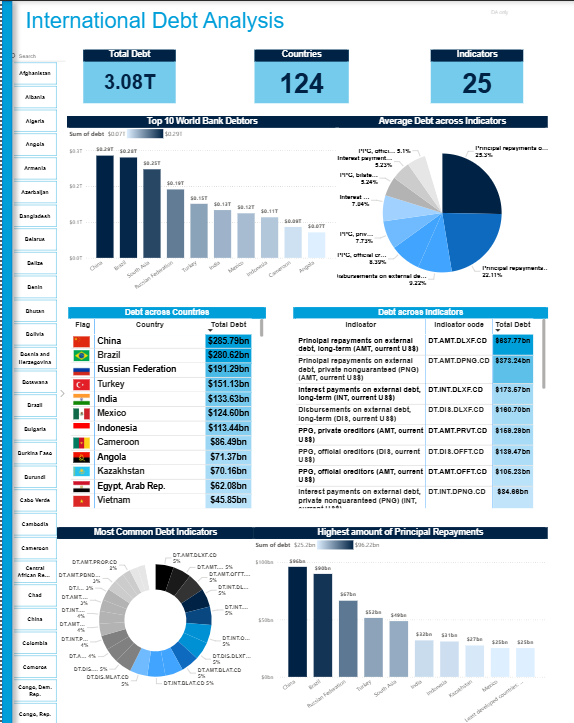

The dashboard page shown, as its layout file describes it:
{"tool":"powerbi","page":{"name":"Main","canvas":[1256,1590],"ordinal":0},"visuals":[{"type":"textbox","box":[47.5,10,1175,67.5],"z":2000},{"type":"slicer","fields":{"Values":["IDS_AllCountries_Data.country_name"]},"box":[0,105.9,144.1,1494.1],"z":3000},{"type":"shape","box":[0,0,22.5,1600],"z":4000},{"type":"card","title":"Total Debt","fields":{"Values":["IDS_AllCountries_Data.Total Debt"]},"box":[178.6,107.1,203.6,117.9],"z":5000},{"type":"tableEx","title":"Debt across Countries ","fields":{"Values":["IDS_CountryFlag_LookUp.Country Flag","IDS_AllCountries_Data.country_name","Sum(IDS_AllCountries_Data.debt)"]},"box":[144.8,672.4,434.5,446.6],"z":6000},{"type":"tableEx","title":"Debt across Indicators ","fields":{"Values":["IDS_AllCountries_Data.indicator_name","IDS_AllCountries_Data.indicator_code","Sum(IDS_AllCountries_Data.debt)"]},"box":[639.7,672.4,560.3,446.6],"z":7000},{"type":"card","title":"Countries","fields":{"Values":["Count(IDS_AllCountries_Data.country_name)"]},"box":[553.6,107.1,207.1,117.9],"z":8000},{"type":"card","title":"Indicators","fields":{"Values":["Count(IDS_AllCountries_Data.indicator_name)"]},"box":[942.9,107.1,203.6,117.9],"z":9000},{"type":"columnChart","title":"Top 10 World Bank Debtors","fields":{"Category":["IDS_AllCountries_Data.country_name"],"Y":["Sum(IDS_AllCountries_Data.debt)"]},"box":[142.9,251.4,594.3,405.7],"z":10000},{"type":"columnChart","title":"Highest amount of Principal Repayments","fields":{"Category":["Principal_repayments.country_name"],"Y":["Sum(Principal_repayments.debt)"]},"box":[553.1,1156.2,646.9,443.8],"z":11000},{"type":"pieChart","title":"Average Debt across Indicators","fields":{"Y":["Avg(IDS_AllCountries_Data.debt)"],"Category":["IDS_AllCountries_Data.indicator_name"]},"box":[737.1,251.4,462.9,405.7],"z":12000},{"type":"donutChart","title":"Most Common Debt Indicators","fields":{"Category":["IDS_AllCountries_Data.indicator_code"],"Y":["CountNonNull(IDS_AllCountries_Data.indicator_code)"]},"box":[120.3,1156.2,432.8,389.1],"z":13000},{"type":"simpleImageEBC4593F96F1425FB3D84C5BF02B5075","fields":{"imageURL":["IDS_CountryFlag_LookUp.Country Flag"],"altText":["IDS_AllCountries_Data.country_name"]},"box":[1067.6,0,132.4,97.1],"z":14000}]}

Visuals, with their boxes in screenshot pixels (x1, y1, x2, y2), scaled from the page's 1256x1590 canvas onto the 574x723 screenshot:
textbox: (22, 5, 559, 35)
slicer - IDS_AllCountries_Data.country_name: (0, 48, 66, 722)
shape: (0, 0, 10, 722)
"Total Debt" card: (82, 49, 175, 102)
"Debt across Countries " tableEx: (66, 306, 265, 509)
"Debt across Indicators " tableEx: (292, 306, 548, 509)
"Countries" card: (253, 49, 348, 102)
"Indicators" card: (431, 49, 524, 102)
"Top 10 World Bank Debtors" columnChart: (65, 114, 337, 299)
"Highest amount of Principal Repayments" columnChart: (253, 526, 548, 722)
"Average Debt across Indicators" pieChart: (337, 114, 548, 299)
"Most Common Debt Indicators" donutChart: (55, 526, 253, 703)
simpleImageEBC4593F96F1425FB3D84C5BF02B5075 - IDS_CountryFlag_LookUp.Country Flag x IDS_AllCountries_Data.country_name: (488, 0, 548, 44)
